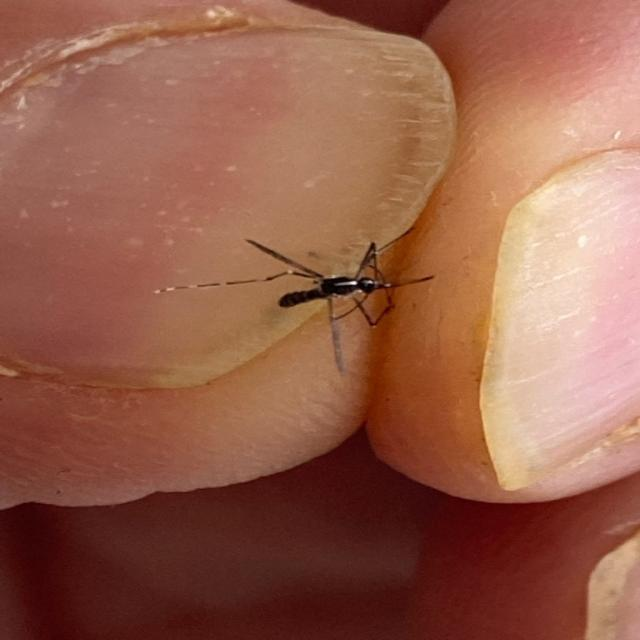albopictus: (156, 208, 442, 368)
